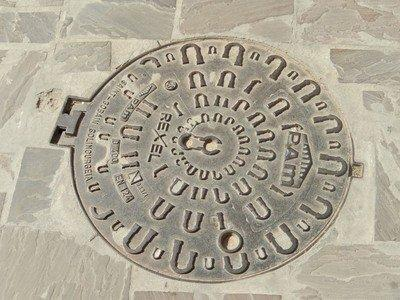wellcover: (58, 34, 366, 291)
